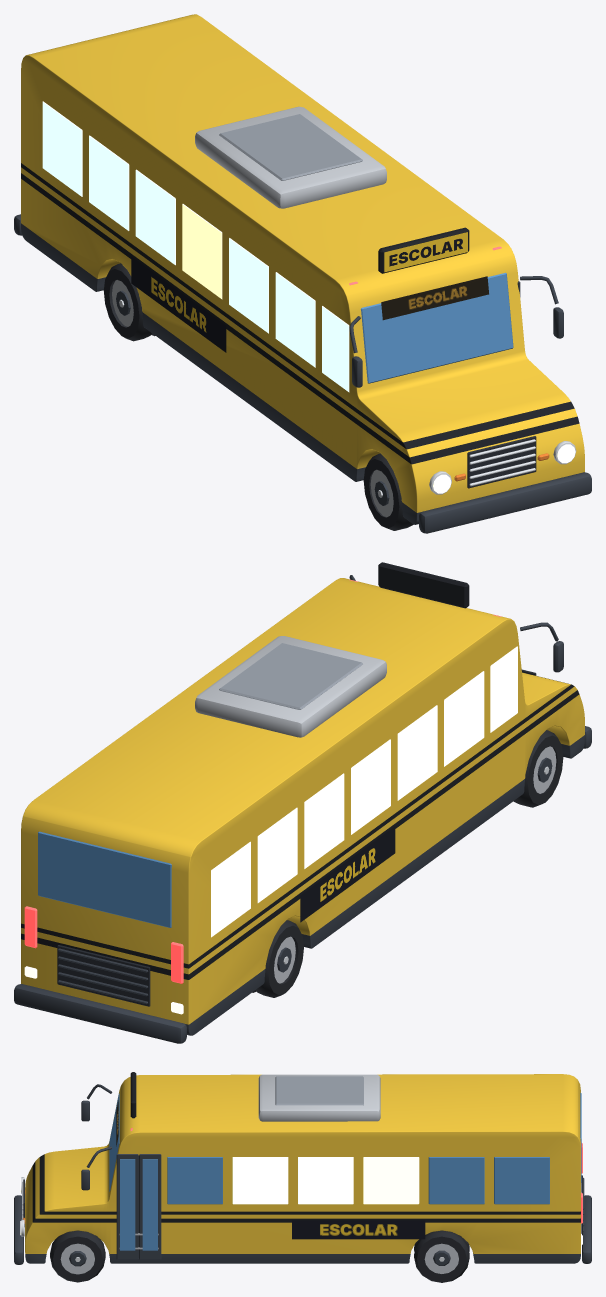
File: onibus_escolar.glb
3 renders of one model, top to bottom at view 1: azimuth 30°, elevation 25°; view 2: azimuth 150°, elevation 25°; view 3: azimuth 270°, elevation 25°, orthographic. The views are drawn at different scales.
Parts seen in each view (by area): view 1: onibus_escolar, roda_2, roda_1; view 2: onibus_escolar, roda_2, roda_1; view 3: onibus_escolar, porta_onibus_1, porta_onibus_2, roda_4, roda_3.
Part boxes in pixels (x1,y1,x2,y2): onibus_escolar: (14, 14, 591, 533); roda_2: (103, 263, 155, 341); roda_1: (363, 453, 413, 530); onibus_escolar: (14, 562, 591, 1043); roda_2: (252, 920, 303, 997); roda_1: (513, 730, 563, 807); onibus_escolar: (14, 1072, 591, 1264); porta_onibus_1: (116, 1154, 138, 1259); porta_onibus_2: (139, 1154, 161, 1259); roda_4: (414, 1230, 469, 1282); roda_3: (50, 1230, 105, 1282).
Bounding box in the file's own units: 3.03 × 3.37 × 10.4.
9 materials, 4 textured.
